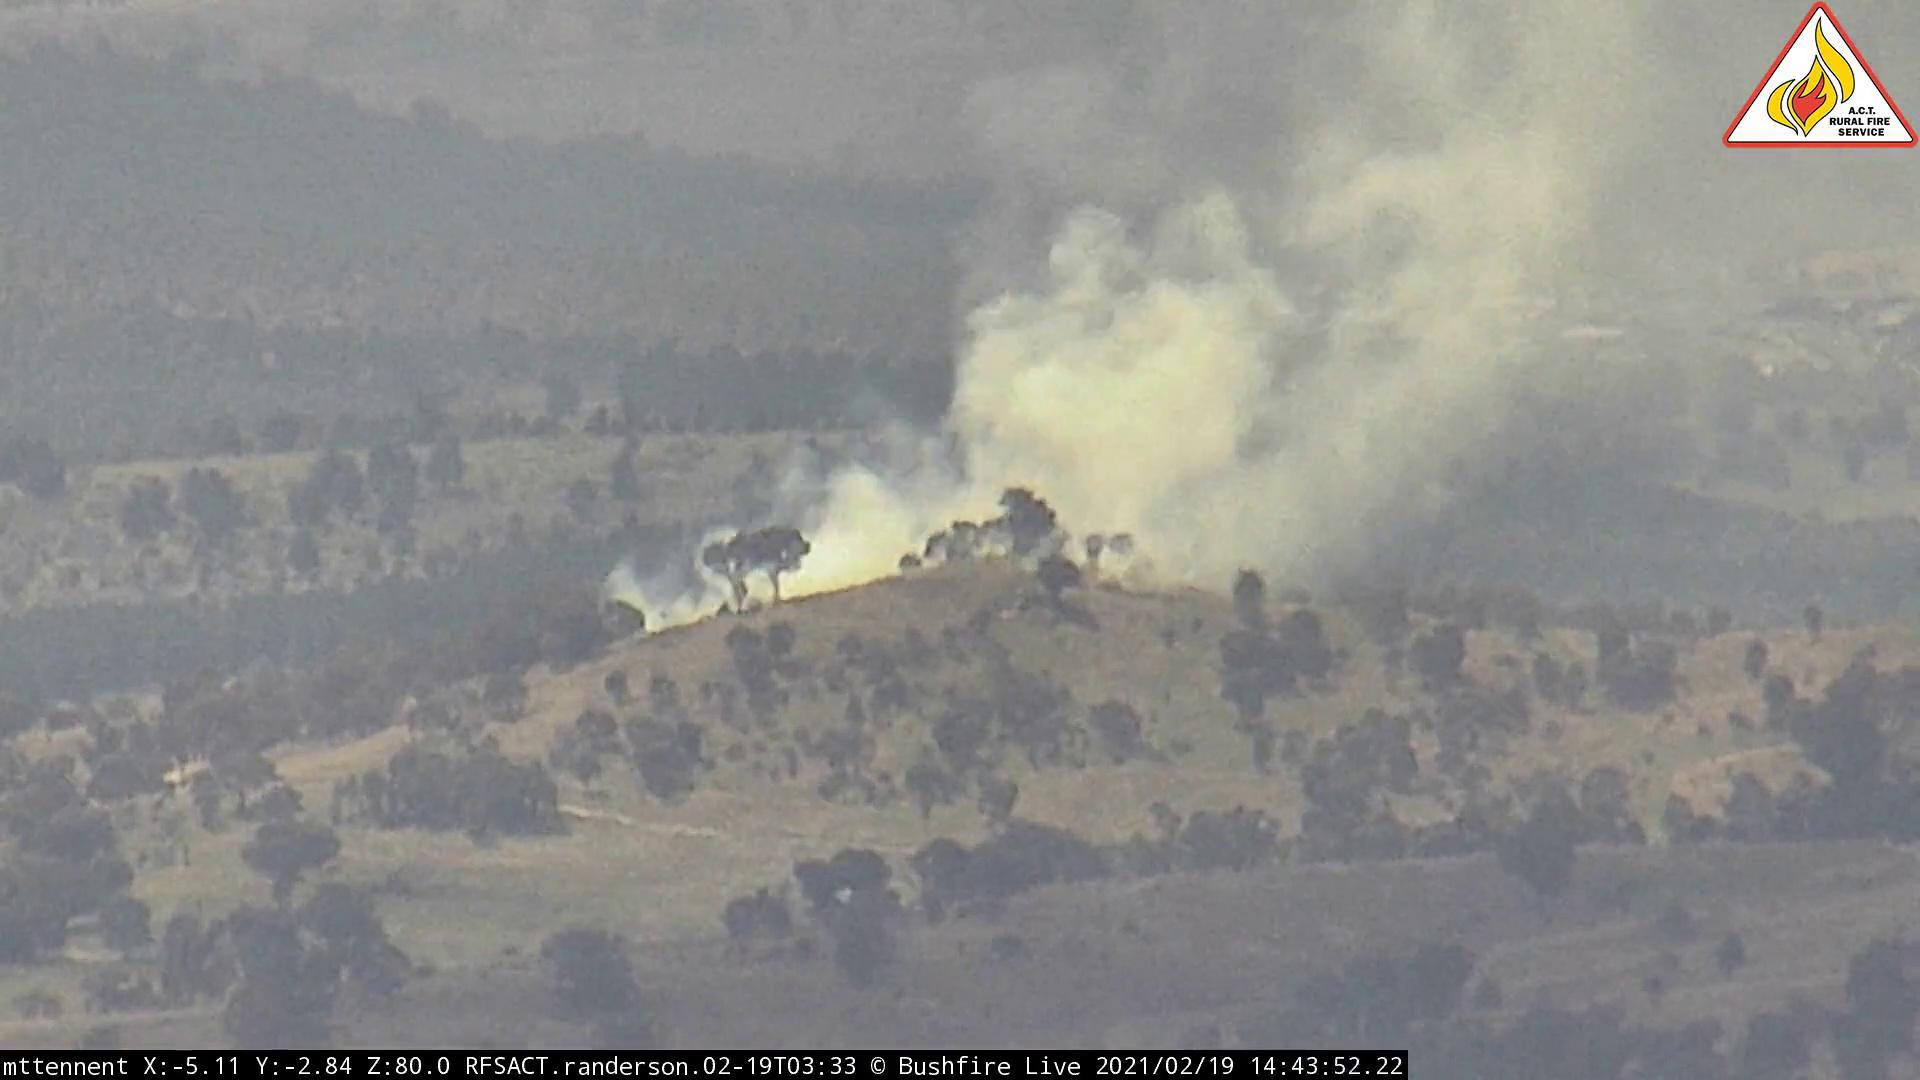Smoke: (634, 3, 1614, 636)
